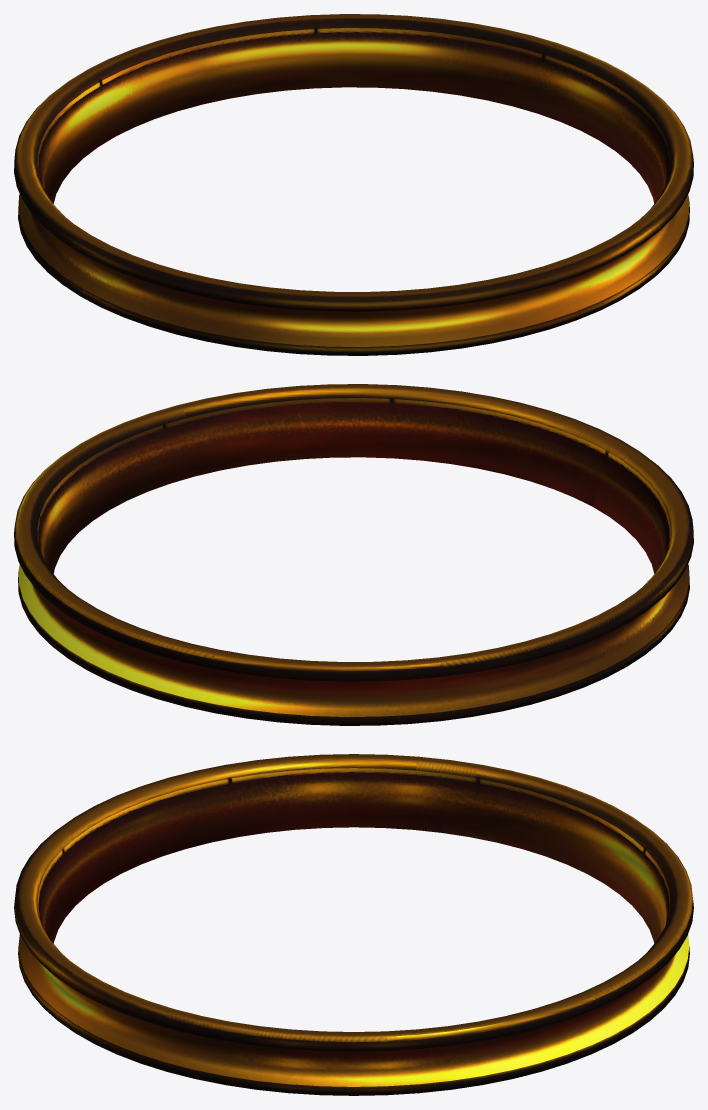
The model's file is outer ring.fbx.
The picture shows the model from 3 angles, top to bottom: view 1: azimuth 30°, elevation 25°; view 2: azimuth 150°, elevation 25°; view 3: azimuth 270°, elevation 25°; orthographic projection.
Visible parts, largest first — view 1: Outer.007; view 2: Outer.007; view 3: Outer.007.
Boxes of the visible parts, box(x1,y1,x2,y2) form: Outer.007: box(14, 14, 693, 355); Outer.007: box(14, 384, 693, 725); Outer.007: box(14, 754, 693, 1095).
Bounding box in the file's own units: 200 × 19.35 × 200.
